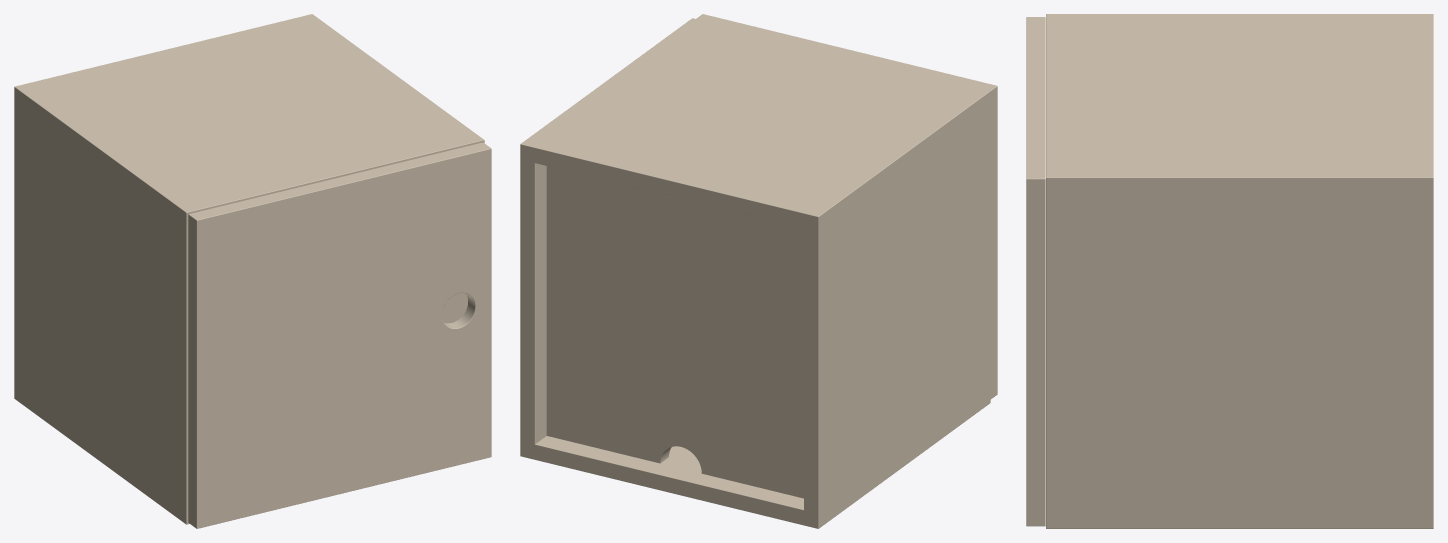
File: MOD-1X1-D-B-DER-AP-AR.glb
3 views of the same model, side by side, from view 1: azimuth 30°, elevation 25°; view 2: azimuth 150°, elevation 25°; view 3: azimuth 270°, elevation 25° (orthographic). The views are drawn at different scales.
Size of the model in its own units: 360 by 360 by 378.
